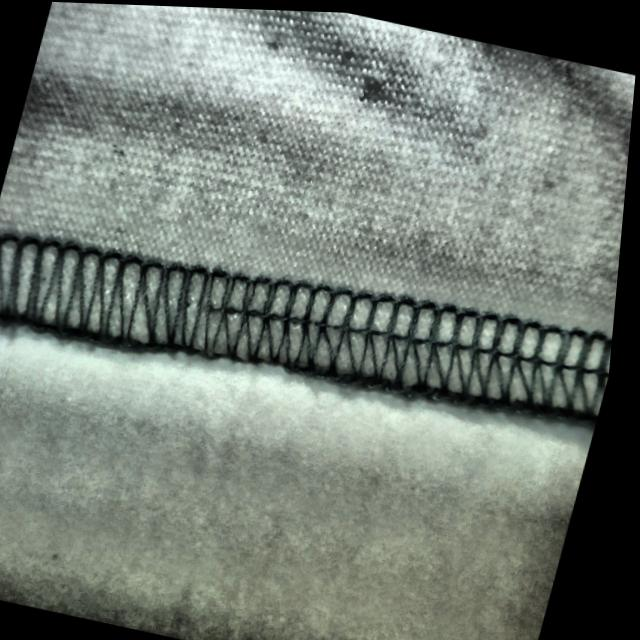Stitch: (0, 214, 433, 406)
